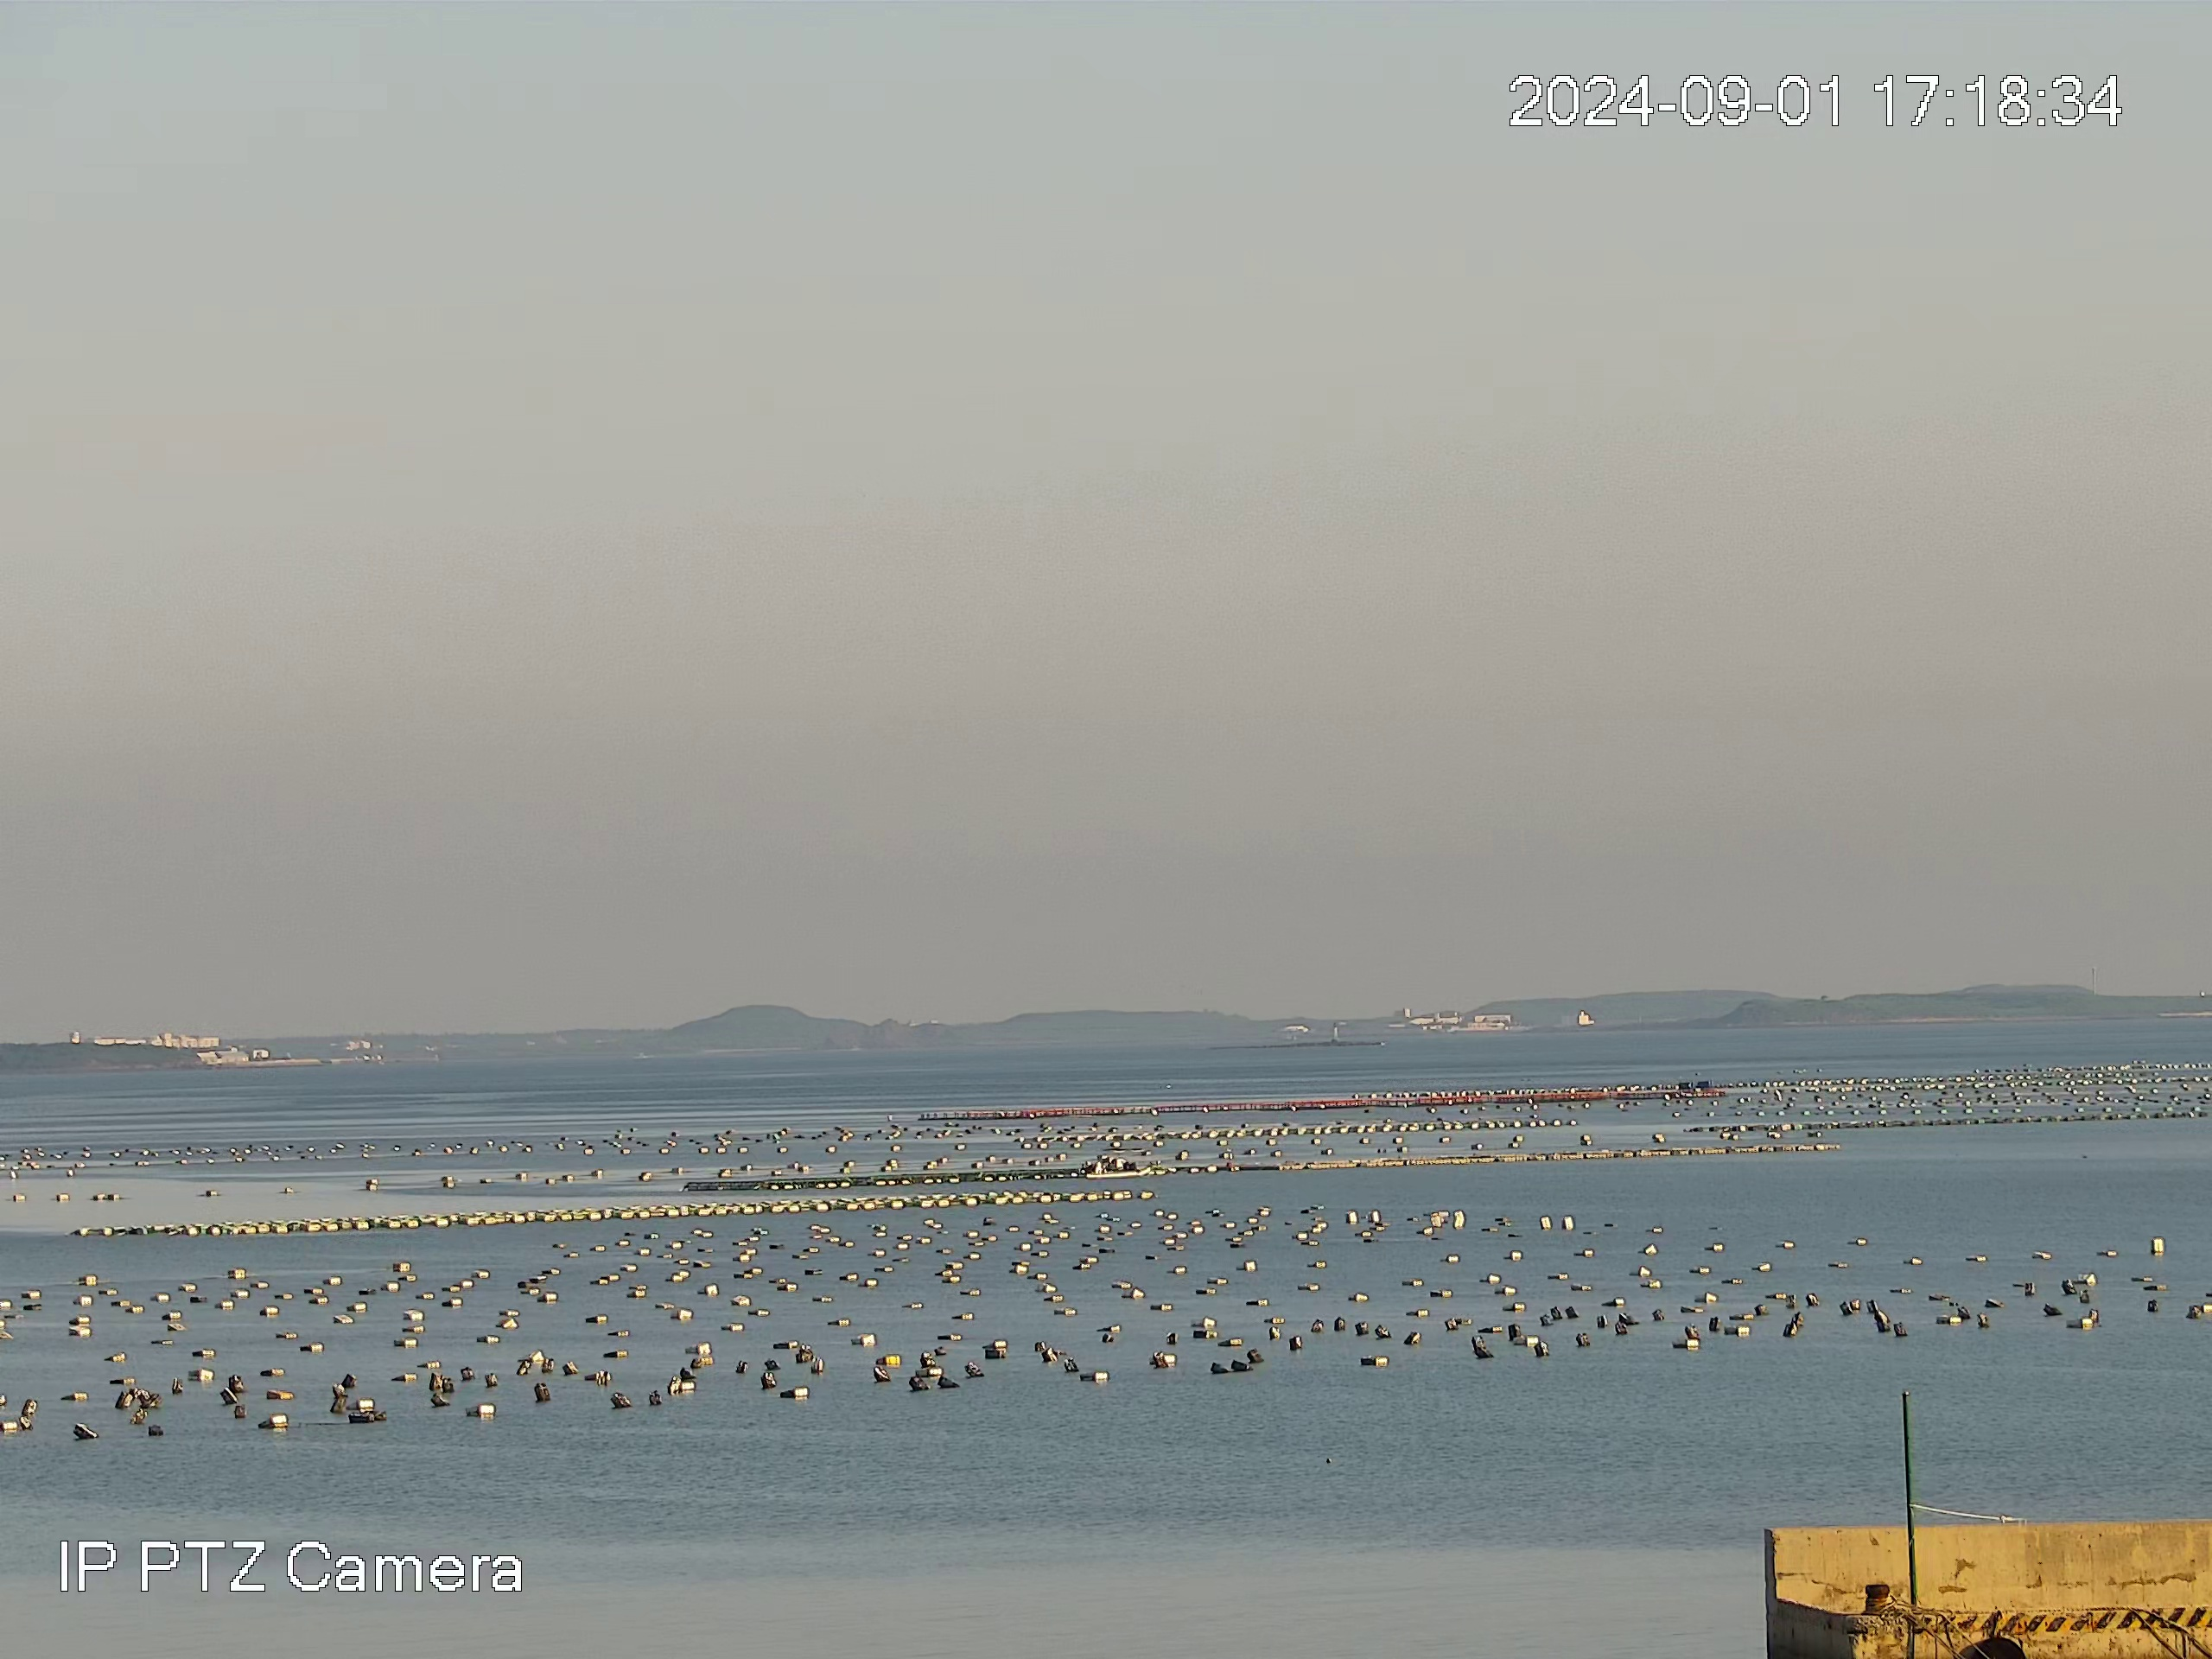boat: (1085, 1154, 1153, 1178)
